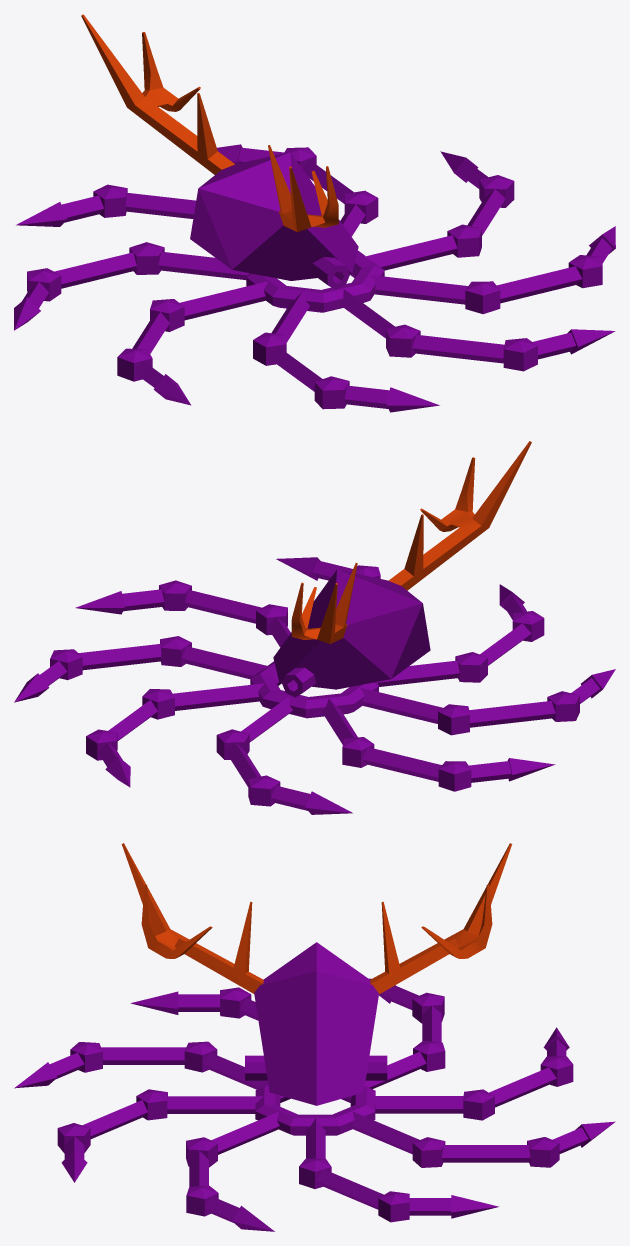
The model's file is octonew.fbx.
3 renders of one model, top to bottom at view 1: azimuth 30°, elevation 25°; view 2: azimuth 150°, elevation 25°; view 3: azimuth 270°, elevation 25°, orthographic. The views are drawn at different scales.
Visible parts, largest first — view 1: polySurface3, polySurface1, polySurface4, polySurface2, polySurface23, polySurface48, polySurface29, polySurface41, polySurface24, polySurface12, polySurface11, polySurface36 (+28 smaller); view 2: polySurface3, polySurface2, polySurface4, polySurface1, polySurface17, polySurface30, polySurface42, polySurface29, polySurface41, polySurface12, polySurface24, polySurface5 (+26 smaller); view 3: polySurface3, polySurface1, polySurface2, polySurface4, polySurface47, polySurface35, polySurface18, polySurface6, polySurface23, polySurface17, polySurface42, polySurface36 (+28 smaller).
Part boxes in pixels (x1,y1,x2,y2): polySurface3: (190, 152, 358, 280); polySurface1: (81, 14, 234, 174); polySurface4: (246, 250, 384, 312); polySurface2: (268, 145, 338, 232); polySurface23: (369, 275, 467, 304); polySurface48: (412, 334, 504, 363); polySurface29: (180, 281, 268, 320); polySurface41: (364, 235, 457, 270); polySurface24: (497, 266, 582, 303); polySurface12: (54, 252, 137, 288); polySurface11: (158, 251, 248, 279); polySurface36: (125, 192, 195, 218); polySurface3: (273, 569, 430, 689); polySurface2: (388, 441, 531, 590); polySurface4: (250, 661, 378, 718); polySurface1: (291, 563, 357, 644); polySurface17: (173, 683, 264, 710); polySurface30: (469, 701, 555, 727); polySurface42: (78, 644, 161, 670); polySurface29: (360, 687, 442, 723); polySurface41: (181, 646, 269, 678); polySurface12: (362, 747, 441, 781); polySurface24: (185, 589, 261, 623); polySurface5: (377, 660, 459, 686); polySurface3: (254, 942, 378, 1105); polySurface1: (370, 843, 512, 994); polySurface2: (121, 843, 263, 993); polySurface4: (255, 1085, 375, 1135); polySurface47: (167, 1096, 263, 1113); polySurface35: (367, 1096, 463, 1113); polySurface18: (442, 1145, 530, 1162); polySurface6: (101, 1047, 185, 1064); polySurface23: (211, 1112, 279, 1154); polySurface17: (351, 1111, 419, 1154); polySurface42: (316, 1169, 383, 1209); polySurface36: (489, 1067, 556, 1107).
Size of the model in its own units: 21.31 by 8.45 by 21.32.
